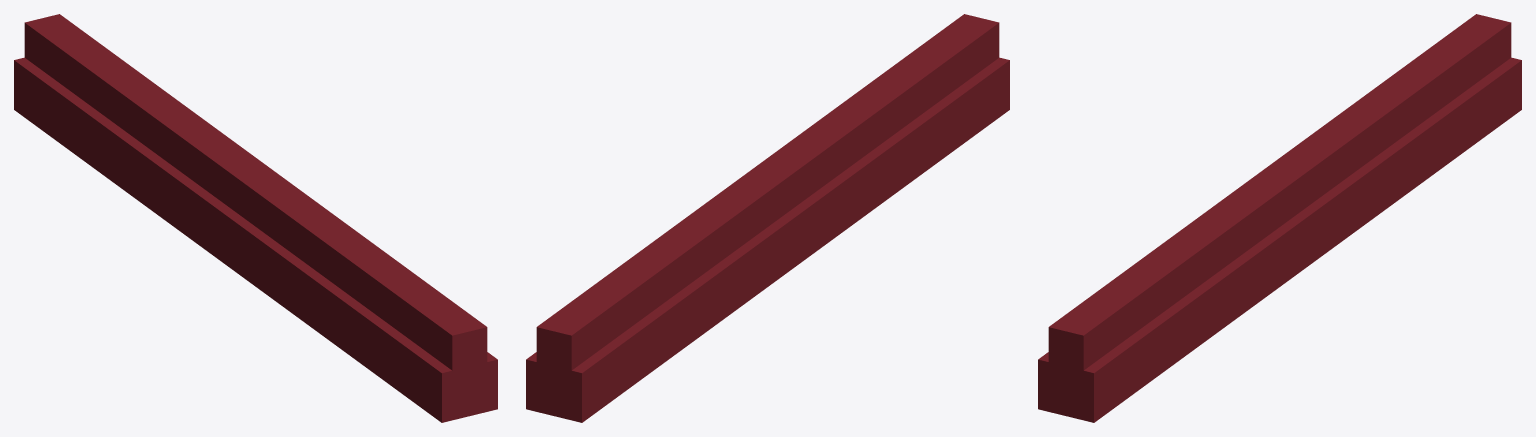
Rendered from BRoofTopTrim_A.fbx.
3 views of the same model, side by side, from view 1: azimuth 30°, elevation 25°; view 2: azimuth 150°, elevation 25°; view 3: azimuth 330°, elevation 25° (orthographic).
Parts seen in each view (by area): view 1: BRoofTopTrim_A; view 2: BRoofTopTrim_A; view 3: BRoofTopTrim_A.
Part boxes in pixels (x1,y1,x2,y2): BRoofTopTrim_A: (14,14,497,422); BRoofTopTrim_A: (526,14,1009,422); BRoofTopTrim_A: (1038,14,1521,422).
Bounding box in the file's own units: 60.56 × 87.44 × 800.
